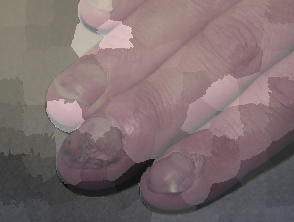Nail_psoriasis: (55, 112, 137, 181), (42, 48, 119, 115), (141, 146, 213, 203), (76, 0, 124, 16)
